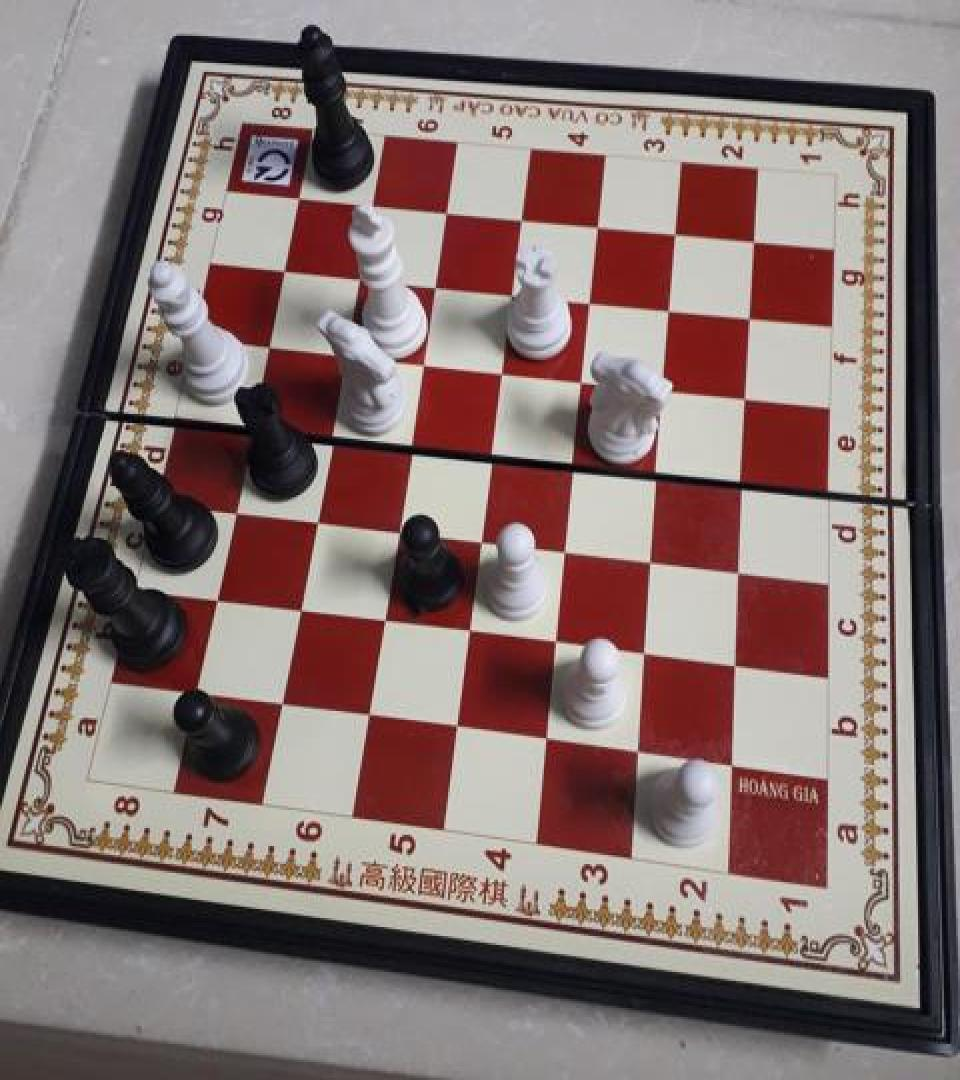xcorner: (360, 184, 390, 219), (183, 675, 213, 709), (270, 686, 300, 720), (358, 698, 388, 732), (447, 710, 477, 744), (537, 722, 567, 756), (627, 734, 657, 768), (719, 746, 749, 780), (203, 580, 233, 614), (287, 590, 317, 624), (373, 602, 403, 636), (459, 612, 489, 646), (546, 623, 576, 657), (634, 634, 664, 668), (723, 646, 753, 680), (221, 490, 251, 524), (387, 510, 417, 544), (471, 521, 501, 555), (555, 531, 585, 565), (641, 541, 671, 575), (727, 551, 757, 585), (239, 405, 269, 439), (319, 415, 349, 449), (400, 424, 430, 458), (481, 433, 511, 467), (564, 443, 594, 477), (647, 452, 677, 486), (731, 462, 761, 496), (256, 325, 286, 359), (334, 334, 364, 368), (412, 343, 442, 377), (492, 351, 522, 385), (572, 360, 602, 394), (653, 369, 683, 403), (734, 378, 764, 412), (271, 250, 301, 284), (424, 266, 454, 300), (501, 273, 531, 307), (579, 282, 609, 316), (658, 290, 688, 324), (737, 299, 767, 333), (286, 176, 316, 210), (435, 192, 465, 226), (510, 200, 540, 234), (586, 208, 616, 242), (663, 216, 693, 250), (740, 224, 770, 258), (304, 501, 334, 534), (347, 258, 377, 291)
